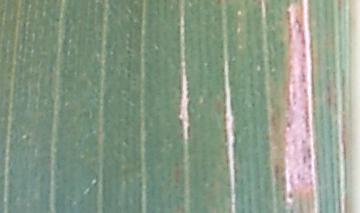tarspot: (284, 120, 293, 129), (248, 100, 257, 109), (217, 52, 225, 61), (301, 153, 307, 164), (53, 16, 61, 24), (287, 191, 294, 200), (295, 171, 301, 181), (299, 137, 307, 144), (125, 48, 132, 55), (215, 1, 223, 6)
